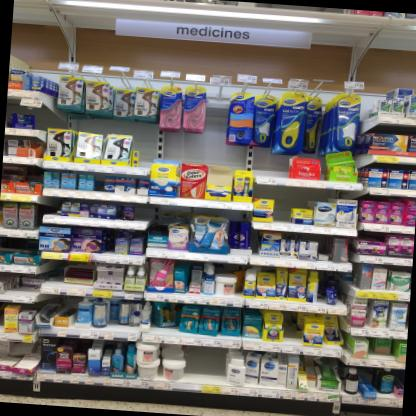empty_space: (193, 349, 224, 386), (252, 154, 287, 181), (275, 200, 289, 224)
